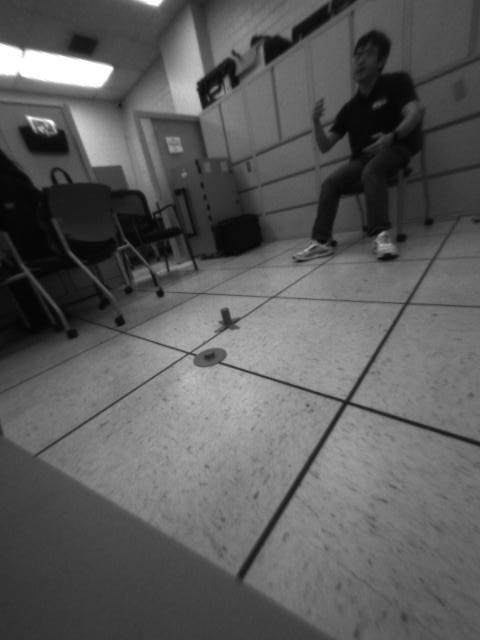X: (209, 305, 242, 336)
